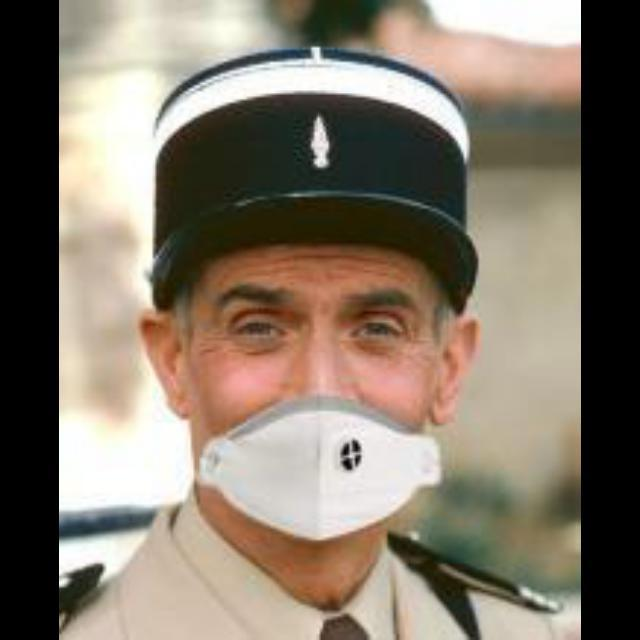suspicion: (146, 232, 526, 534)
